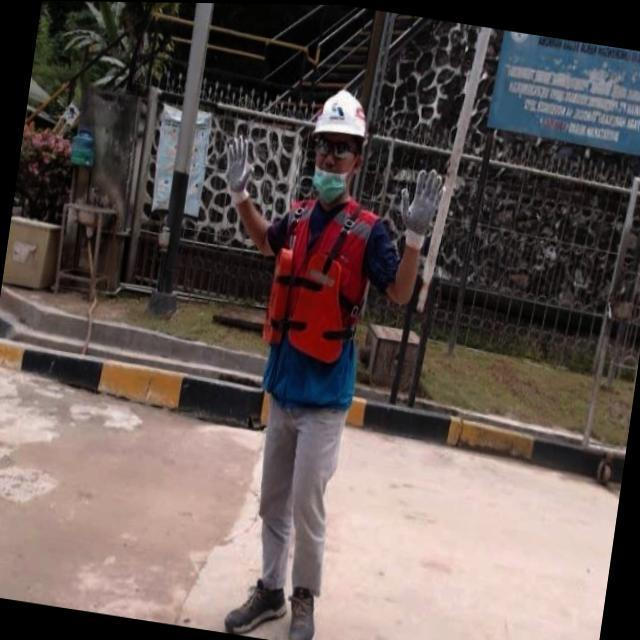goggles_on: (304, 128, 370, 164)
